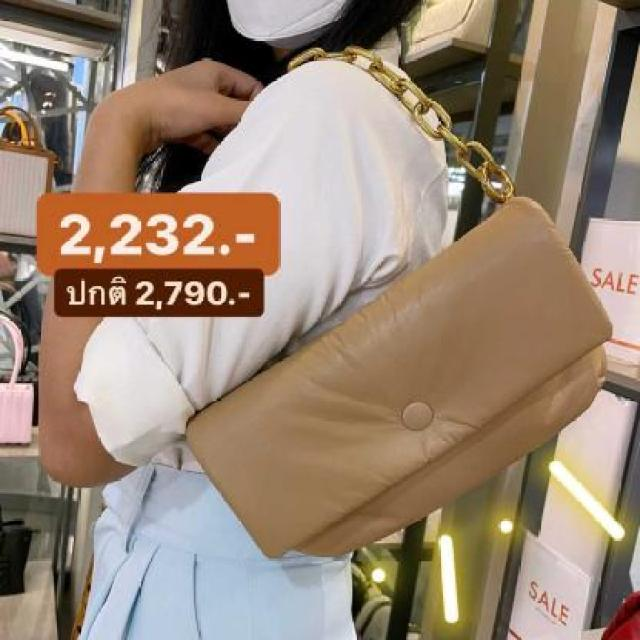Bag: (159, 137, 621, 591)
